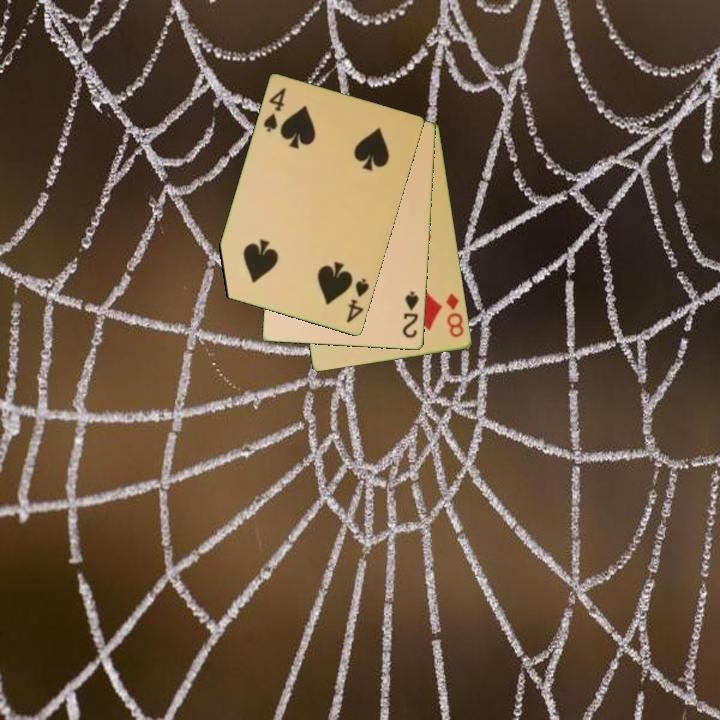2s: (399, 288, 422, 341)
4s: (343, 275, 372, 326), (260, 84, 289, 135)
8d: (442, 290, 467, 341)
